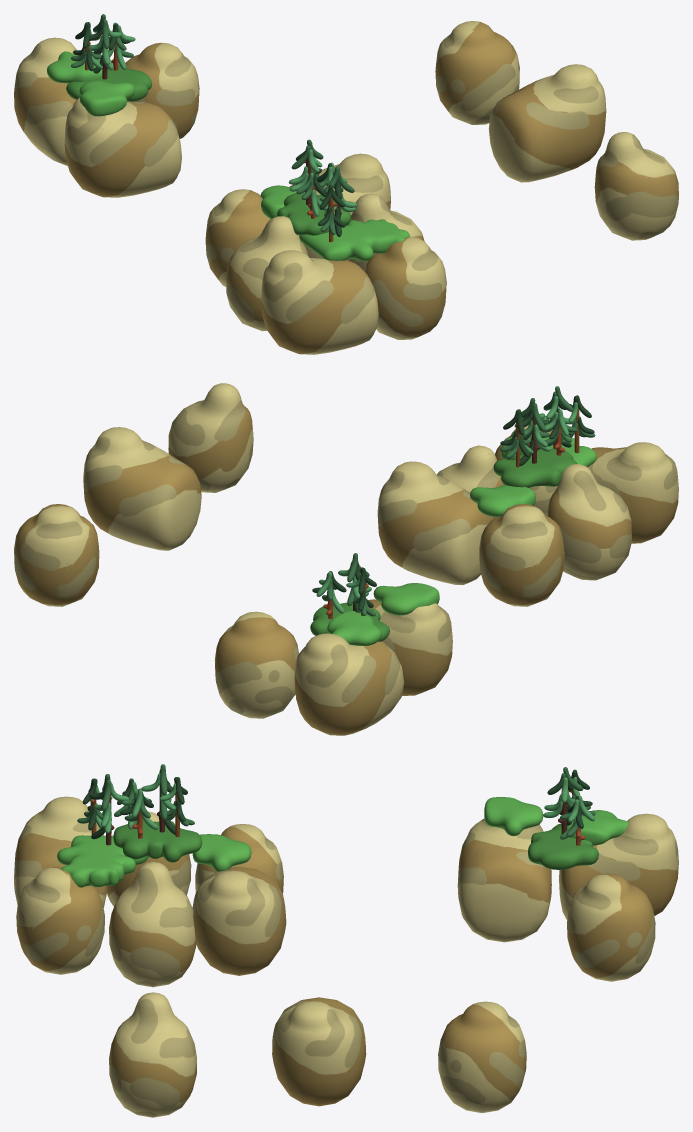
Rendered from ISLANDS.fbx.
3 views of the same model, one above another, from view 1: azimuth 30°, elevation 25°; view 2: azimuth 150°, elevation 25°; view 3: azimuth 270°, elevation 25° (orthographic). The views are drawn at different scales.
Visible parts, largest first — view 1: Cube.069, Cube.022, Cube.028, Cube.070, Cube.068, Cube.021, Cube.029, Cube, Cube.027, Cube.001, Cube.019, Cube.009 (+13 smaller); view 2: Cube.069, Cube.009, Cube.029, Cube.027, Cube.001, Cube.068, Cube, Cube.070, Cube.022, Cube.028, Cube.017, Cube.020 (+14 smaller); view 3: Cube.028, Cube.069, Cube.070, Cube.009, Cube.020, Cube.068, Cube.027, Cube.021, Cube.029, Cube.022, Cube.019, Cube.017 (+13 smaller).
Part boxes in pixels (x1=…): Cube.069: x1=488, y1=64, x2=606, y2=182; Cube.022: x1=261, y1=250, x2=378, y2=354; Cube.028: x1=64, y1=97, x2=181, y2=197; Cube.070: x1=594, y1=132, x2=678, y2=240; Cube.068: x1=435, y1=21, x2=519, y2=124; Cube.021: x1=364, y1=236, x2=446, y2=339; Cube.029: x1=14, y1=37, x2=78, y2=165; Cube: x1=226, y1=216, x2=308, y2=331; Cube.027: x1=125, y1=42, x2=199, y2=138; Cube.001: x1=205, y1=189, x2=270, y2=286; Cube.019: x1=299, y1=219, x2=410, y2=261; Cube.009: x1=289, y1=153, x2=390, y2=258; Cube.069: x1=83, y1=427, x2=201, y2=550; Cube.009: x1=377, y1=461, x2=494, y2=584; Cube.029: x1=294, y1=633, x2=404, y2=735; Cube.027: x1=214, y1=611, x2=298, y2=718; Cube.001: x1=479, y1=504, x2=564, y2=606; Cube.068: x1=14, y1=504, x2=99, y2=606; Cube: x1=547, y1=464, x2=631, y2=580; Cube.070: x1=168, y1=383, x2=253, y2=492; Cube.022: x1=588, y1=442, x2=678, y2=543; Cube.028: x1=368, y1=599, x2=452, y2=695; Cube.017: x1=493, y1=448, x2=577, y2=487; Cube.020: x1=437, y1=445, x2=504, y2=517; Cube.028: x1=457, y1=818, x2=551, y2=942; Cube.069: x1=272, y1=997, x2=366, y2=1106; Cube.070: x1=109, y1=992, x2=196, y2=1117; Cube.009: x1=192, y1=867, x2=286, y2=975; Cube.020: x1=109, y1=862, x2=196, y2=987; Cube.068: x1=438, y1=1001, x2=526, y2=1113; Cube.027: x1=567, y1=873, x2=655, y2=981; Cube.021: x1=16, y1=866, x2=104, y2=974; Cube.029: x1=559, y1=813, x2=678, y2=919; Cube.022: x1=14, y1=796, x2=107, y2=907; Cube.019: x1=57, y1=835, x2=148, y2=887; Cube.017: x1=113, y1=819, x2=202, y2=862.
Bounding box in the file's own units: 5729 × 2071 × 6860.
